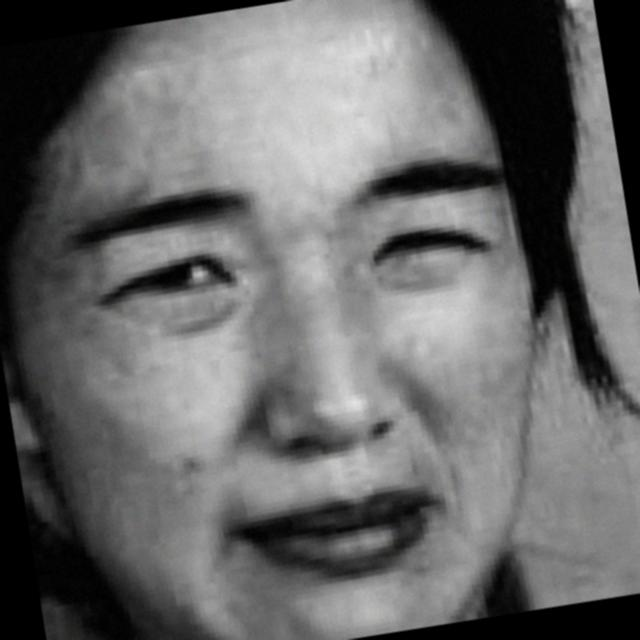disgust: (36, 0, 583, 640)
